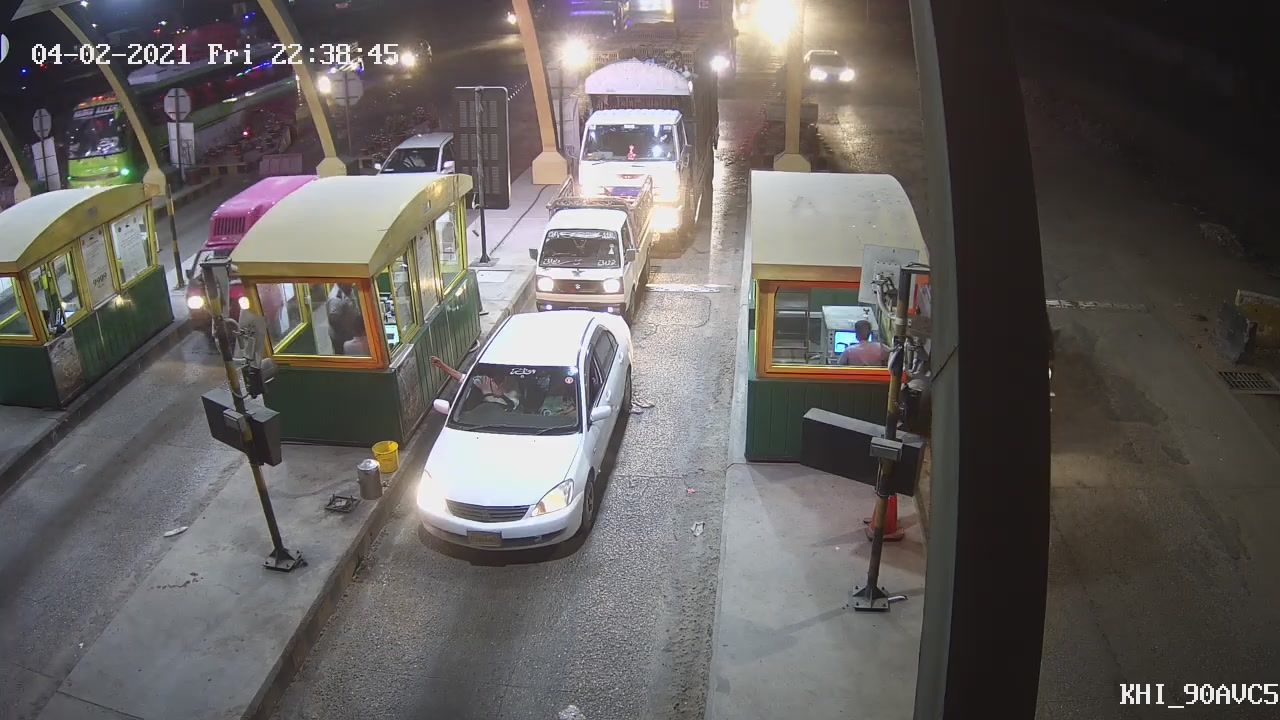F1: (412, 306, 638, 562)
